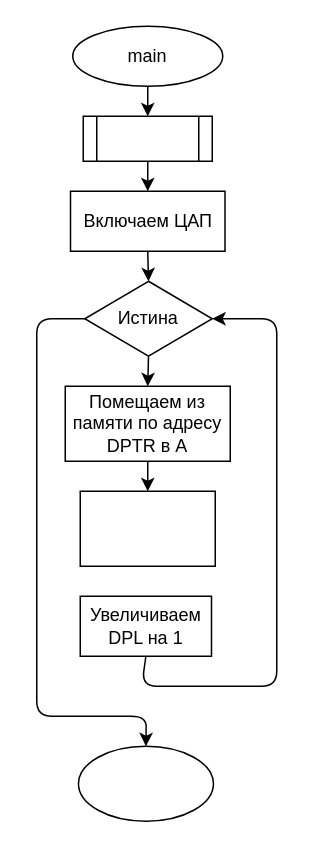
The diagram is 315 pixels wide and 848 high, and some of its shapes have lost their labels. The centre of each missing label's shape, as x and y in pixels:
"read_sim" goes at pixel 147 138.
"конец" goes at pixel 145 783.
"Помещаем из А в P1" goes at pixel 147 528.
